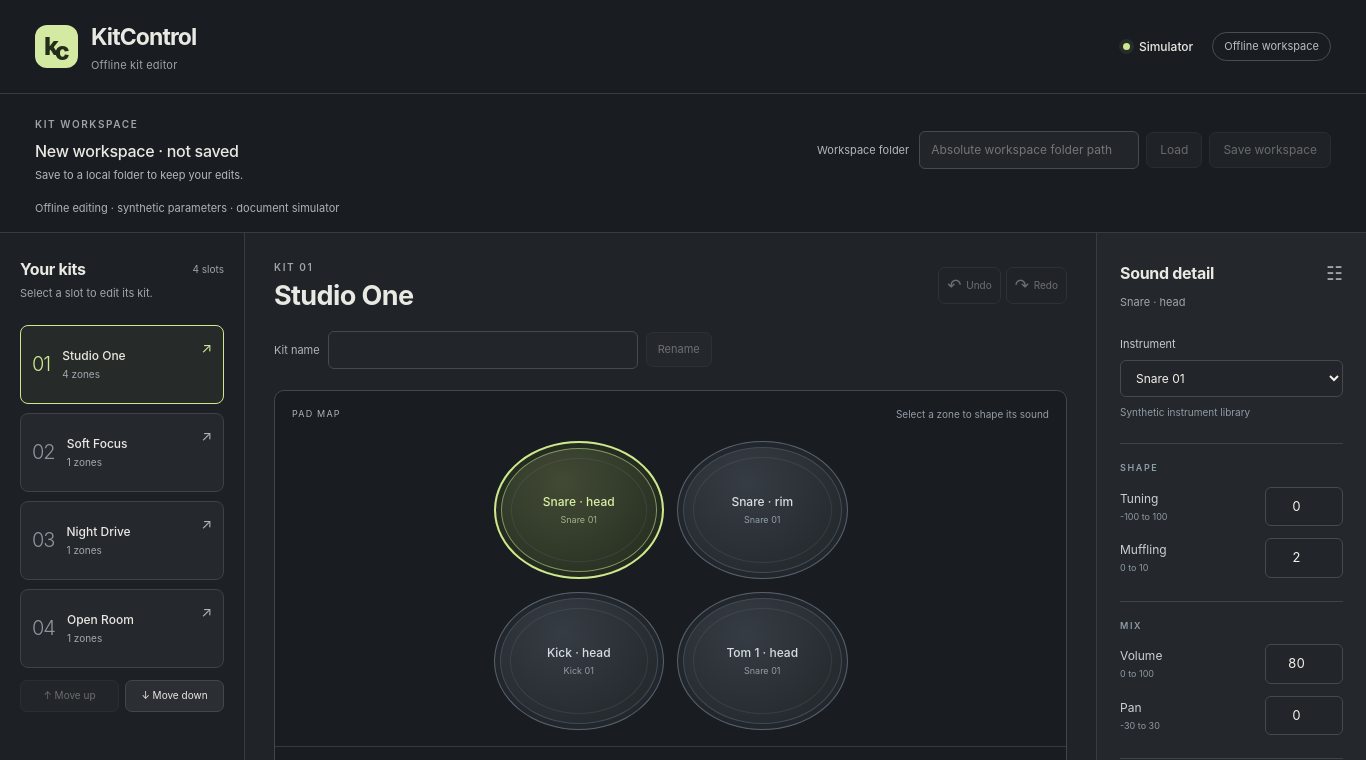
kit editing through the Rust dispatcher › loads and saves the entered folder through the core and makes loading undoable
Expected: the heading "Studio One" is shown, [274,280,413,312]
Expected: the text "New workspace · not saved" is shown, [35,141,239,161]
Type "/tmp/my-kits" into the field labelled "Workspace folder" at (1029, 150), box [919,131,1139,169]
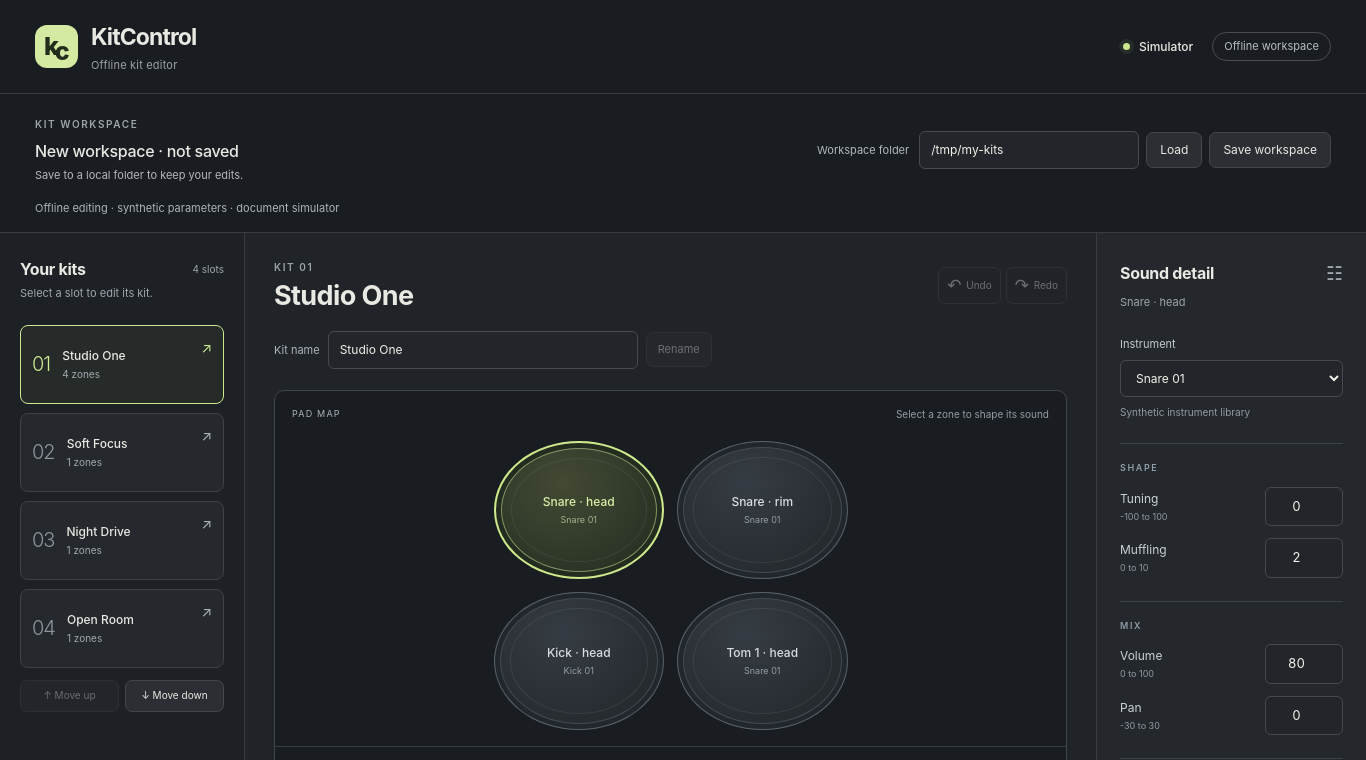
Click the button "Load" at (1174, 150), box [1146,132,1202,168]
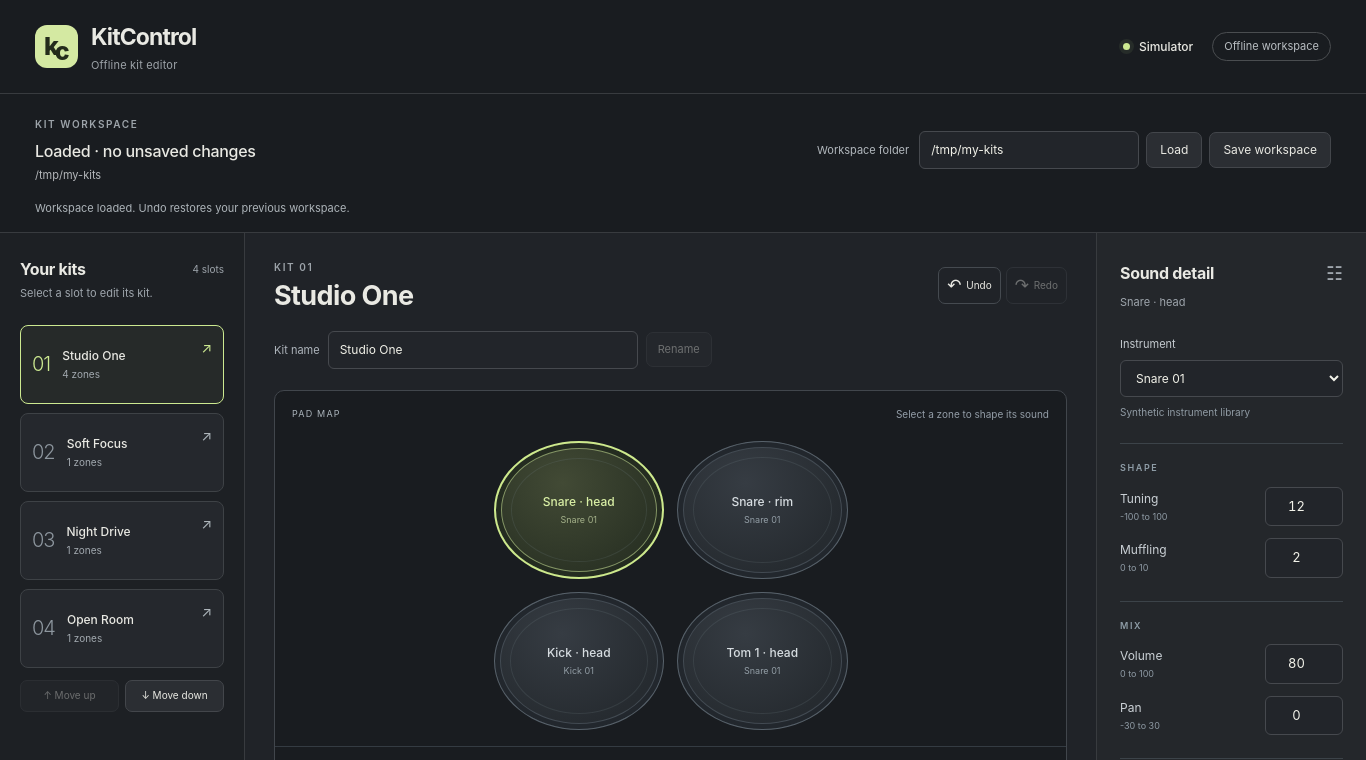
Result: the text "Workspace loaded. Undo restores your previous workspace." is shown at [35,200,350,214]
Result: the text "Loaded · no unsaved changes" is shown at [35,141,256,161]
Result: the number field labelled "Tuning" holds "12" at [1265,486,1343,526]
Click the button "Save workspace" at (1270, 150), box [1209,132,1331,168]
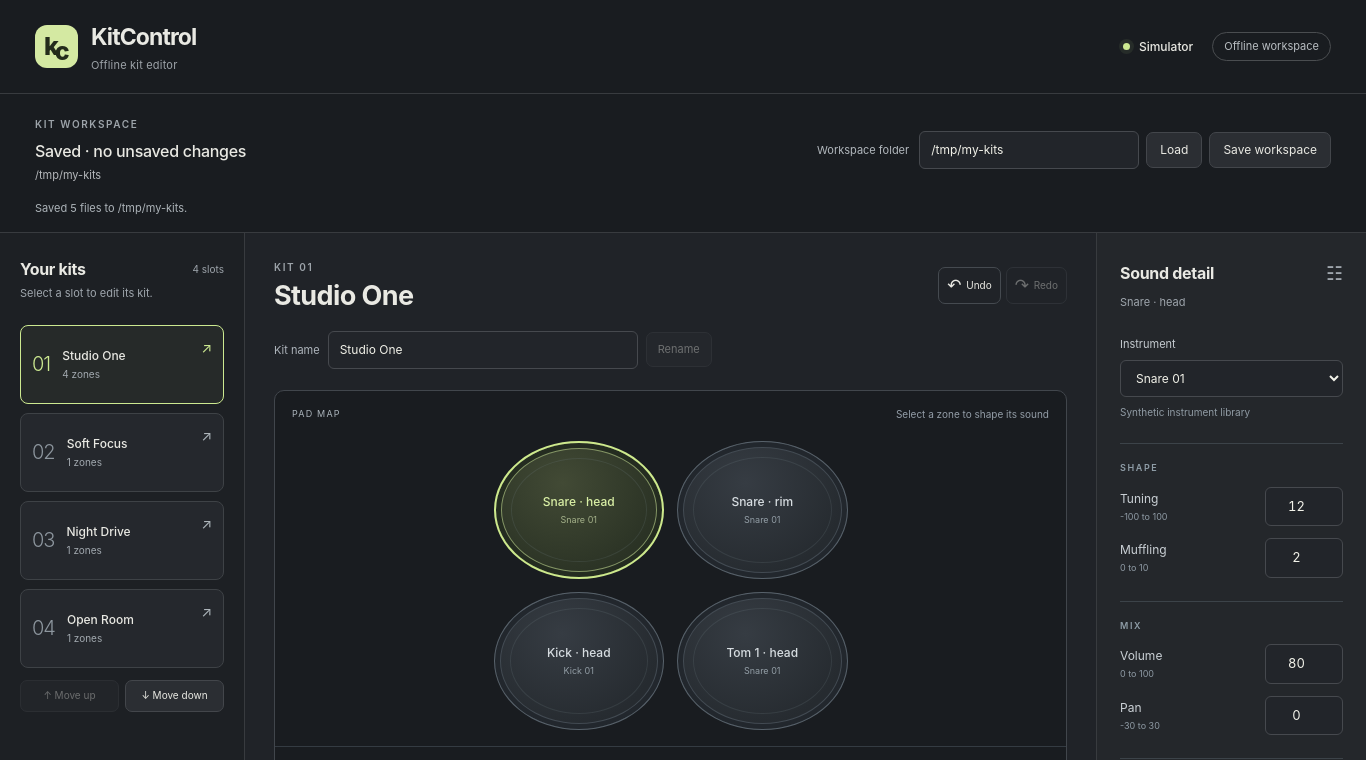
Result: the text "Saved 5 files to /tmp/my-kits." is shown at [35,200,187,214]
Result: the text "Saved · no unsaved changes" is shown at [35,141,246,161]
Click the button "↶ Undo" at (969, 286), box [938,267,1001,304]
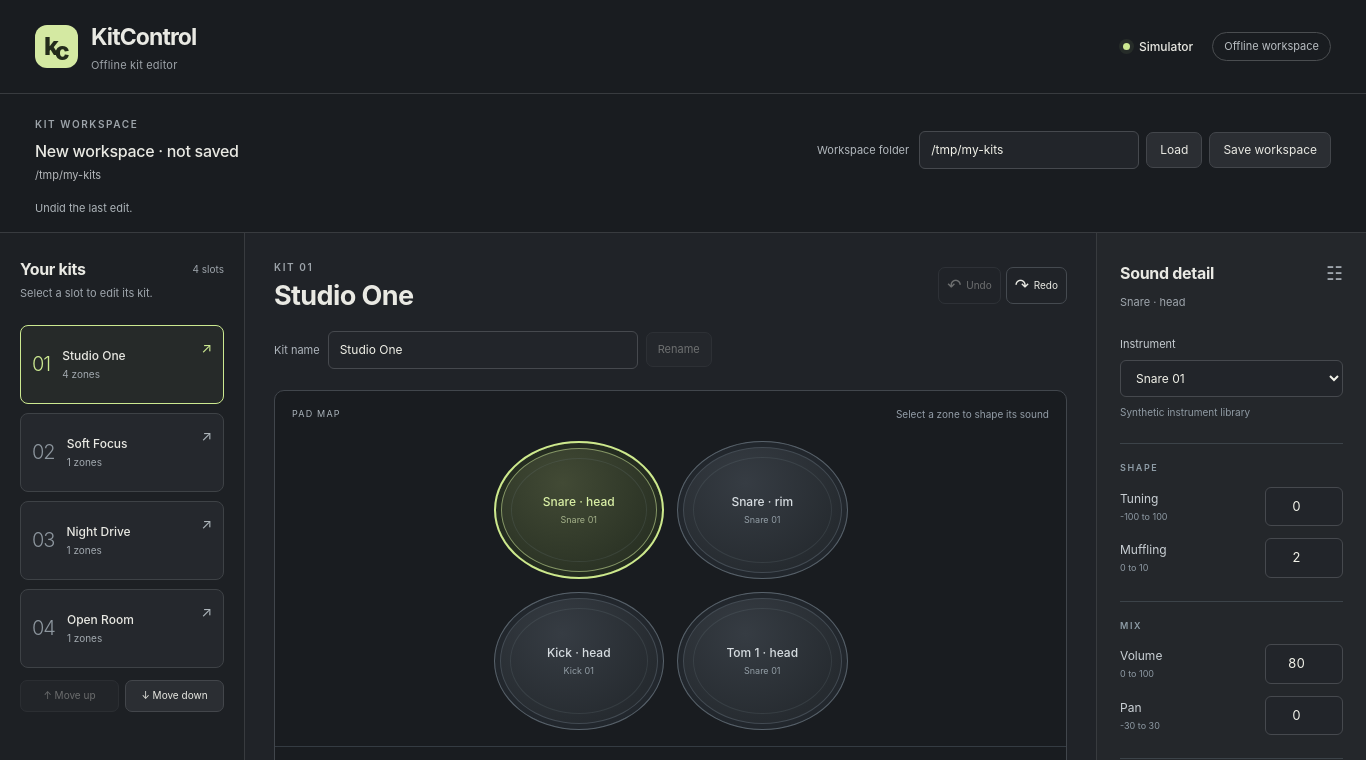
Result: the number field labelled "Tuning" holds "0" at [1265,486,1343,526]
Result: the text "Saved · no unsaved changes" is gone
